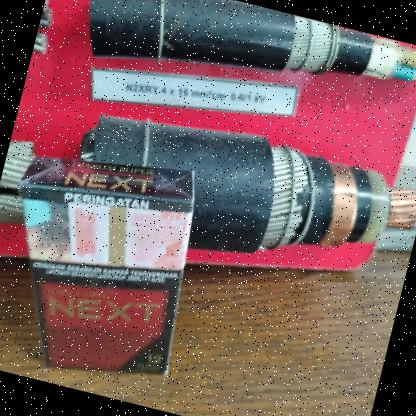bungkus rokok: (0, 129, 220, 394)
